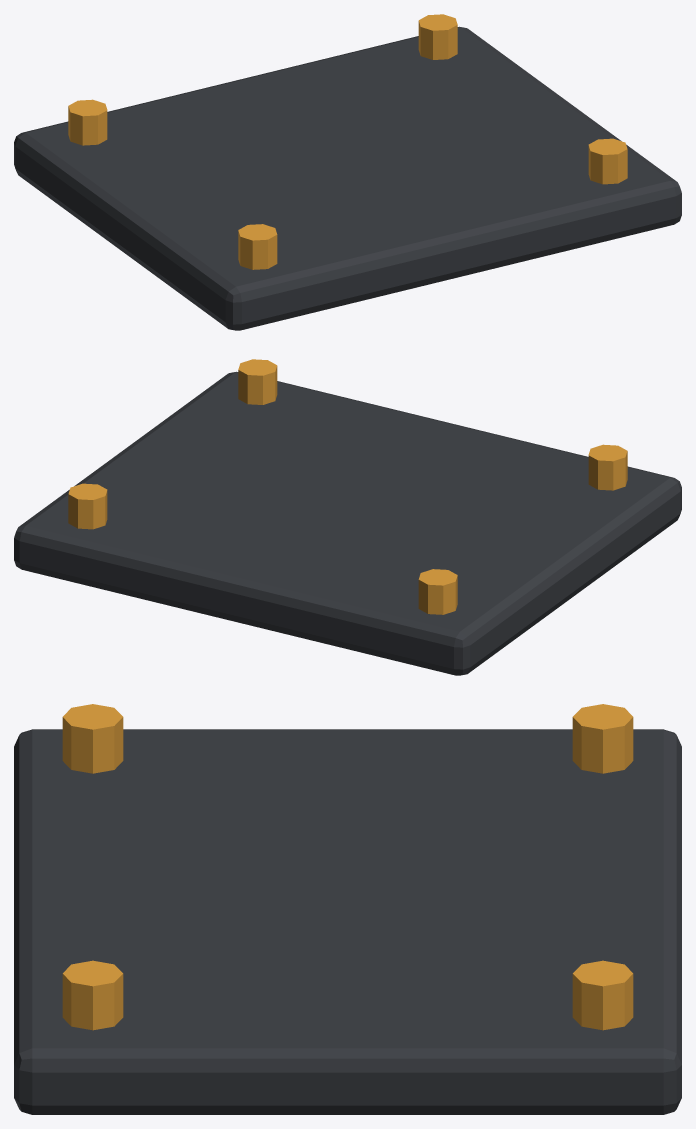
Rendered from empty-power.glb.
3 renders of one model, top to bottom at view 1: azimuth 30°, elevation 25°; view 2: azimuth 150°, elevation 25°; view 3: azimuth 270°, elevation 25°, orthographic. The views are drawn at different scales.
Parts seen in each view (by area): view 1: empty_power body; view 2: empty_power body; view 3: empty_power body.
Part boxes in pixels (<box>): empty_power body: <box>14,14,681,330</box>; empty_power body: <box>14,359,681,675</box>; empty_power body: <box>14,704,681,1114</box>.
Size of the model in its own units: 1.3 by 0.2 by 1.1.
